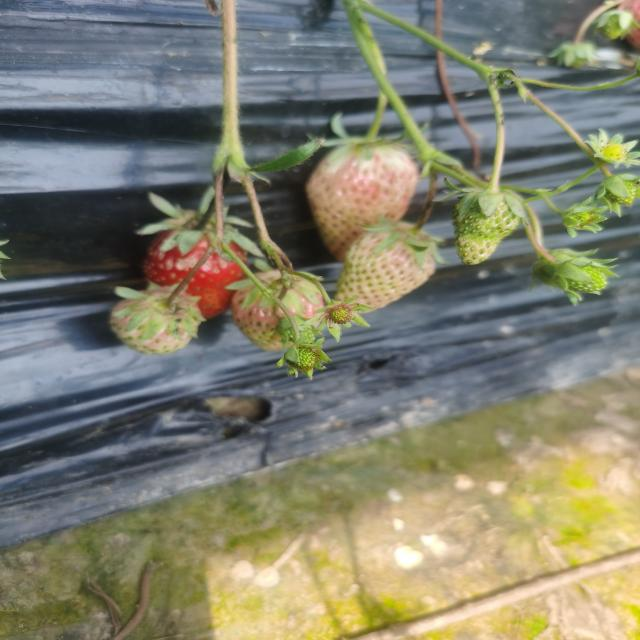strawberry: (146, 214, 214, 285), (189, 253, 242, 318), (227, 223, 247, 262)
